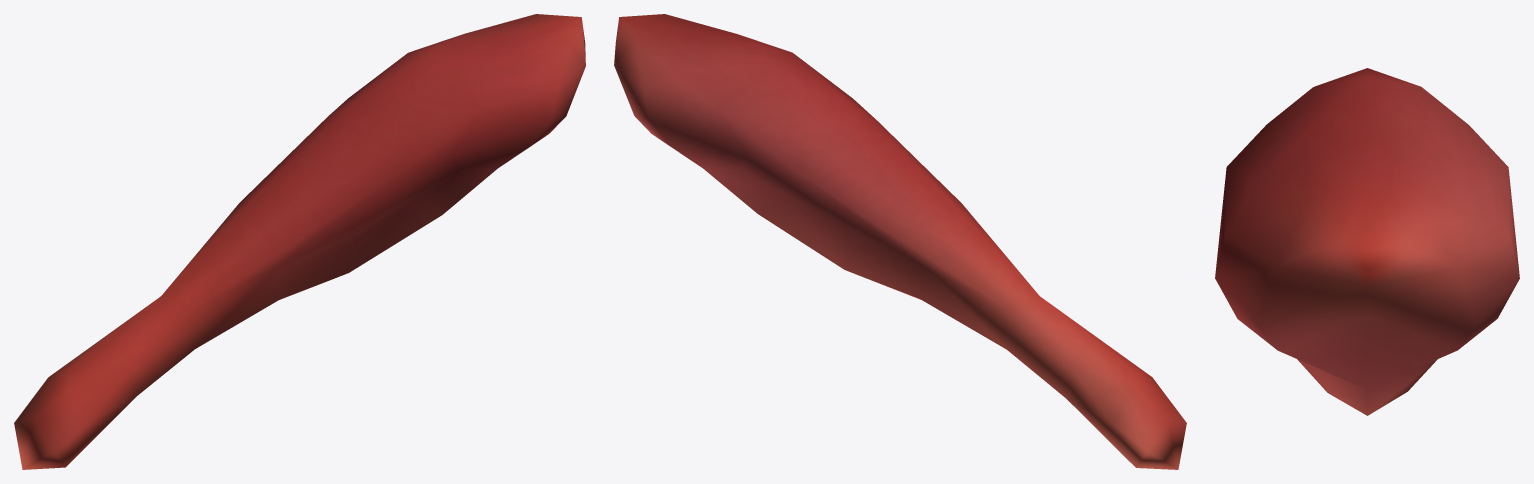
The model's file is Toungue.glb.
3 renders of one model, left to right at view 1: azimuth 30°, elevation 25°; view 2: azimuth 150°, elevation 25°; view 3: azimuth 270°, elevation 25°, orthographic. The views are drawn at different scales.
Parts seen in each view (by area): view 1: Tongue; view 2: Tongue; view 3: Tongue.
Boxes of the visible parts, left/top/right/bottom form: Tongue: left=14, top=14, right=585, bottom=469; Tongue: left=614, top=14, right=1186, bottom=469; Tongue: left=1215, top=68, right=1519, bottom=415.
Bounding box in the file's own units: 0.3593 × 0.1963 × 0.0843.
1 material, 1 textured.
